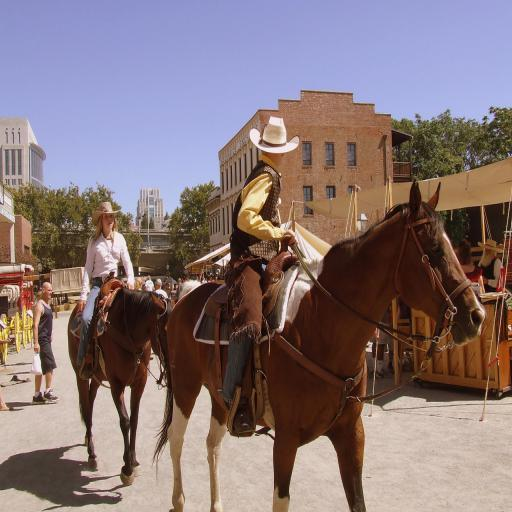Horse: (150, 176, 487, 512), (66, 284, 172, 485)
